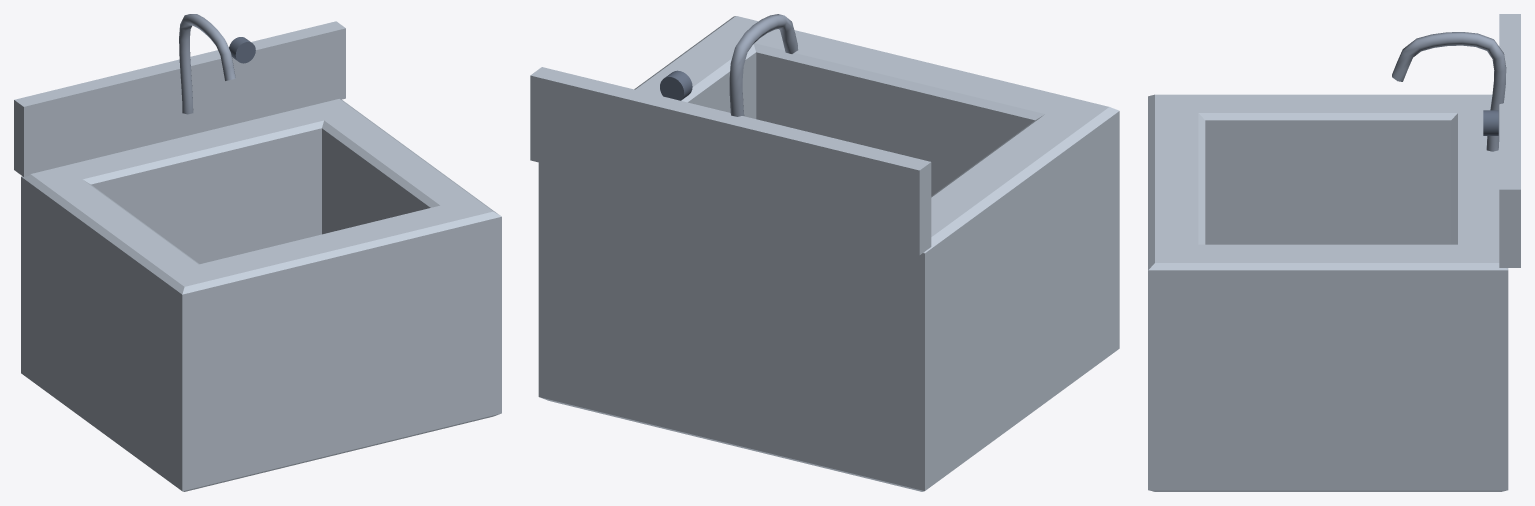
Rendered from 拖把池-lite.glb.
3 views of the same model, side by side, from view 1: azimuth 30°, elevation 25°; view 2: azimuth 150°, elevation 25°; view 3: azimuth 270°, elevation 25° (orthographic). The views are drawn at different scales.
Visible parts, largest first — view 1: light, body, dark; view 2: light, body, dark; view 3: light, body, dark.
Part boxes in pixels (left/top/right/bottom): light: left=14, top=21, right=501, bottom=491; body: left=179, top=14, right=235, bottom=114; dark: left=229, top=37, right=255, bottom=63; light: left=530, top=16, right=1119, bottom=491; body: left=729, top=14, right=798, bottom=116; dark: left=660, top=70, right=692, bottom=100; light: left=1148, top=14, right=1520, bottom=491; body: left=1392, top=32, right=1506, bottom=151; dark: left=1483, top=110, right=1498, bottom=135.
Size of the model in its own units: 0.48 by 0.4773 by 0.4305.
